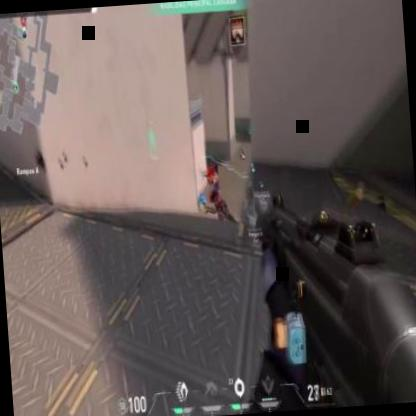enemy: (206, 164, 222, 216)
enemy_head: (210, 164, 217, 176)
